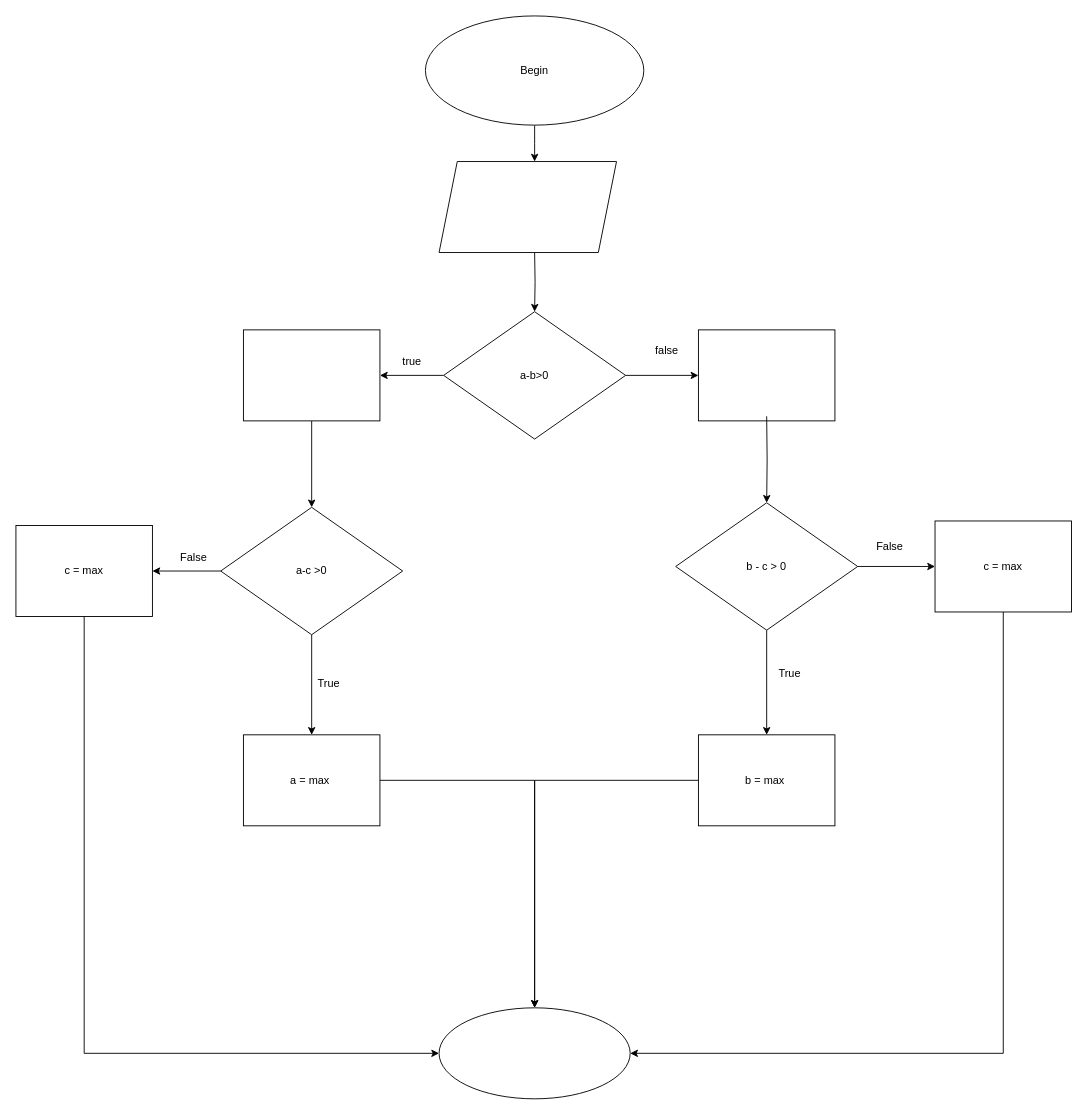
This 1087x1115 diagram has some shape labels left out. Each missing label, with the box of its shape:
a > b: (243, 329, 380, 421)
a,b,c: (438, 161, 617, 253)
b > a: (698, 329, 835, 421)
end: (438, 1007, 630, 1099)
